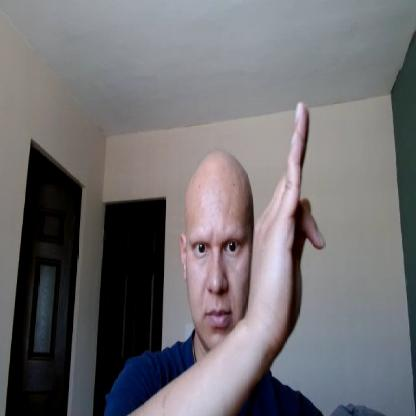F: (248, 102, 328, 348)
